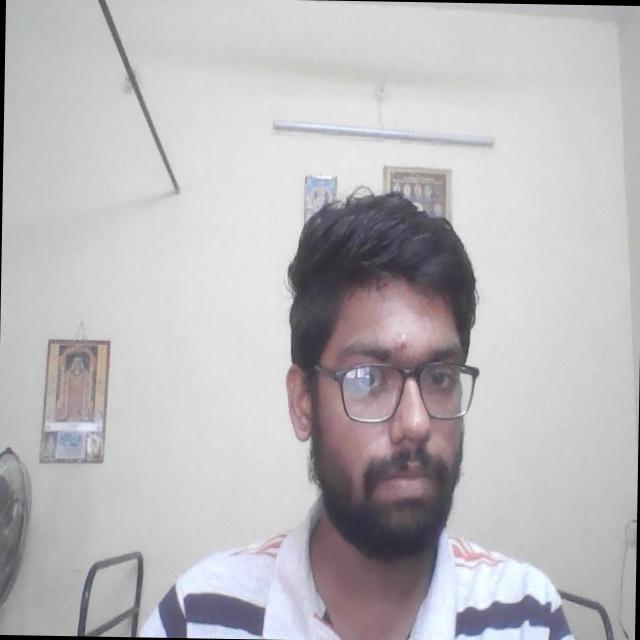Focused: (291, 277, 482, 534)
